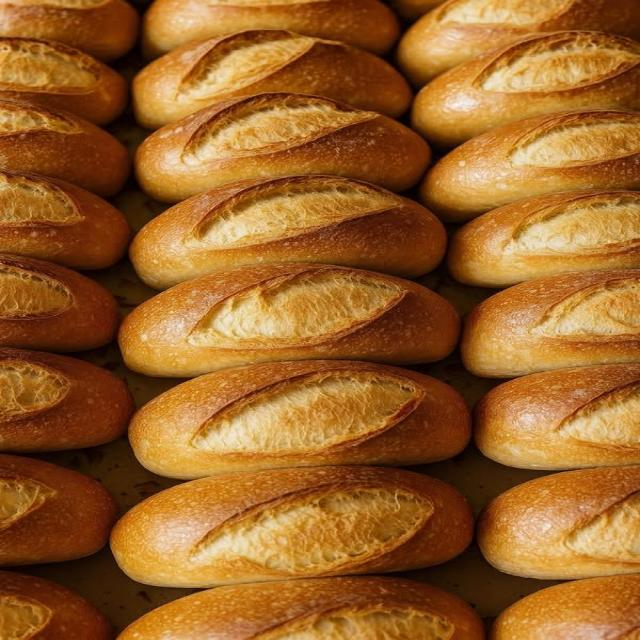bread: (111, 466, 472, 587), (130, 361, 470, 478), (120, 264, 459, 376), (131, 175, 446, 289), (136, 93, 430, 201), (133, 30, 411, 128), (412, 31, 639, 148), (421, 110, 639, 221), (119, 576, 484, 639), (398, 0, 639, 86), (461, 269, 639, 377), (447, 190, 639, 287), (477, 466, 639, 579), (474, 364, 639, 469), (142, 0, 399, 57), (0, 348, 134, 452), (0, 170, 131, 270), (0, 455, 117, 566), (0, 101, 130, 196), (0, 254, 118, 351), (0, 37, 126, 124), (490, 574, 639, 639), (0, 0, 138, 61), (0, 572, 111, 639), (389, 0, 444, 21)
